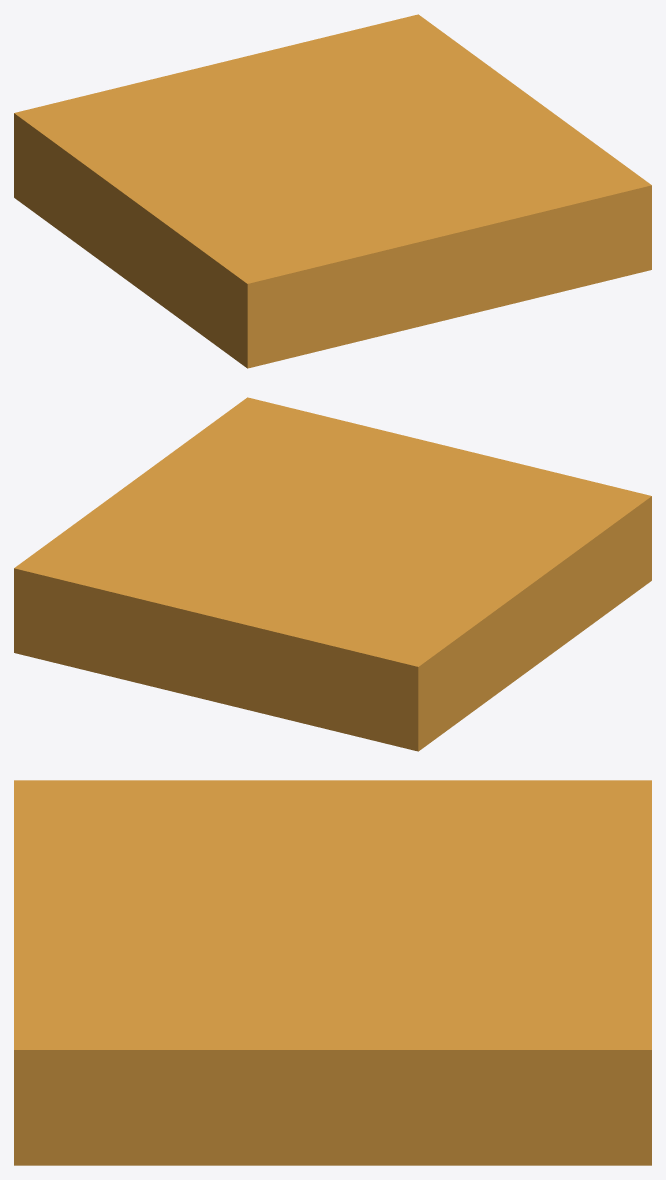
The model's file is tile-race-track-straight.glb.
The picture shows the model from 3 angles, top to bottom: view 1: azimuth 30°, elevation 25°; view 2: azimuth 150°, elevation 25°; view 3: azimuth 270°, elevation 25°; orthographic projection. The views are drawn at different scales.
Visible parts, largest first — view 1: tile-race-track-straight; view 2: tile-race-track-straight; view 3: tile-race-track-straight.
Part boxes in pixels (x1=…): tile-race-track-straight: x1=14, y1=14, x2=651, y2=368; tile-race-track-straight: x1=14, y1=397, x2=651, y2=751; tile-race-track-straight: x1=14, y1=780, x2=651, y2=1165.
Bounding box in the file's own units: 30 × 6 × 30.
